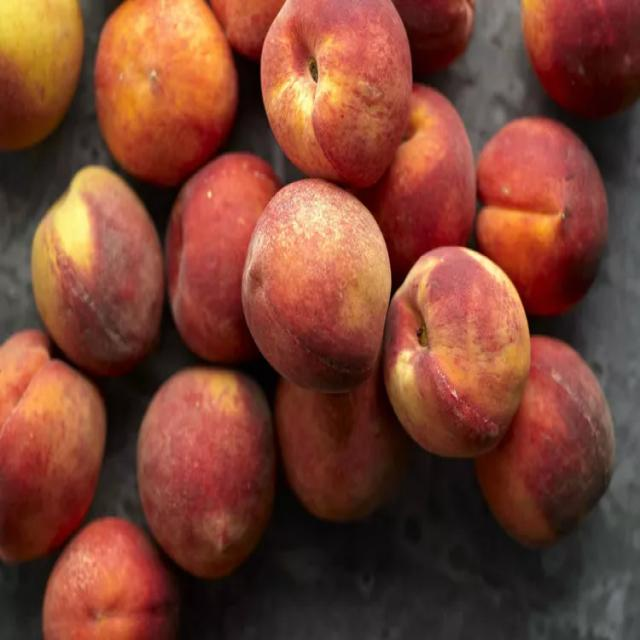peach: (241, 179, 391, 393), (383, 247, 530, 457), (137, 367, 276, 577), (475, 337, 614, 544), (261, 0, 411, 188), (32, 165, 164, 375), (95, 0, 237, 184), (475, 119, 606, 314), (351, 86, 475, 285), (0, 330, 104, 561), (166, 154, 281, 361), (44, 517, 179, 639)
